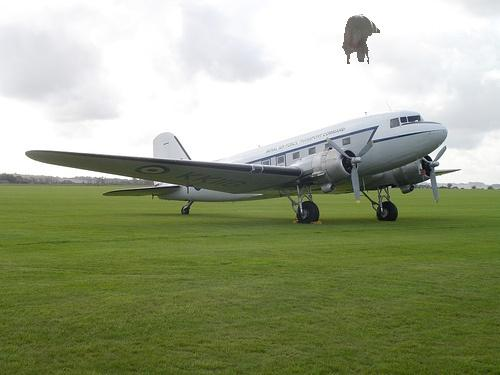tampered: (343, 15, 380, 64)
